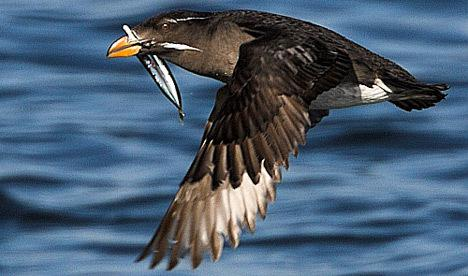008.Rhinoceros_Auklet: (106, 7, 449, 270)
